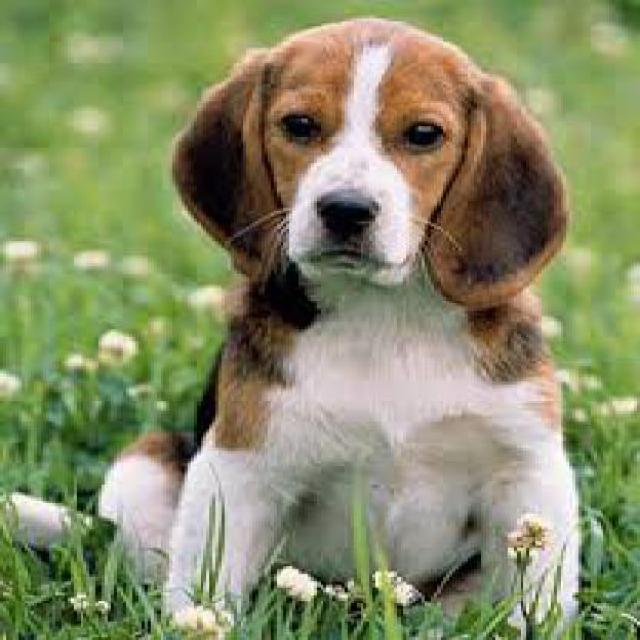Dog: (75, 12, 592, 636)
